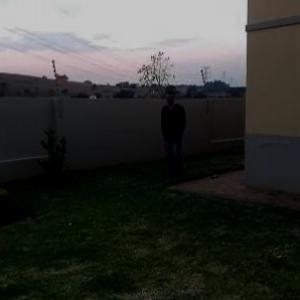follow: (160, 88, 192, 181)
